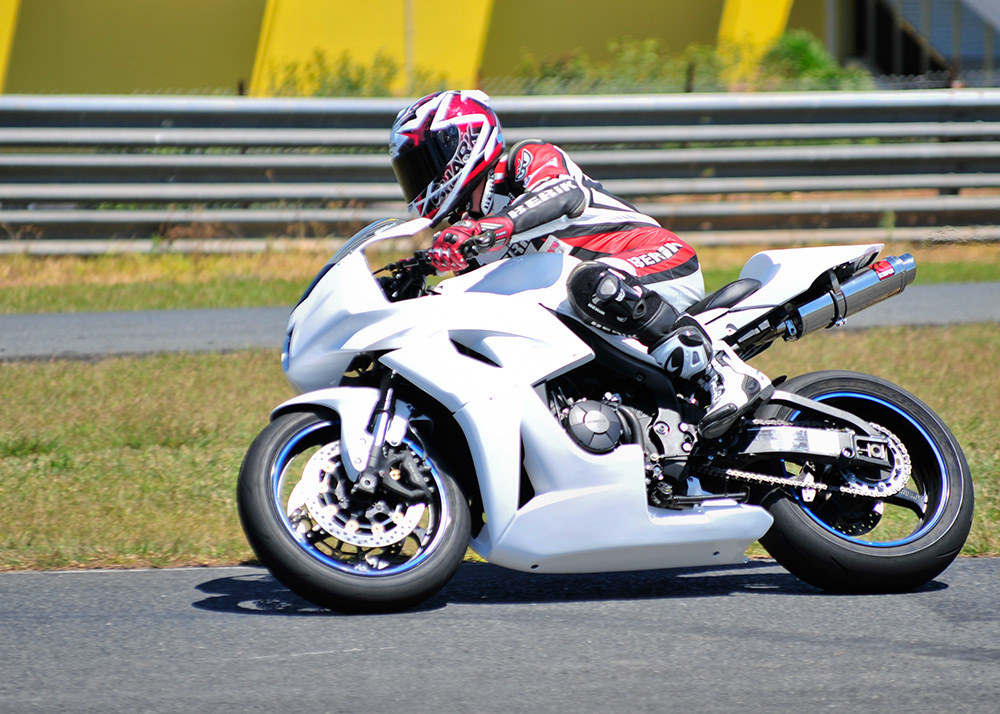helmet: (288, 87, 849, 534)
